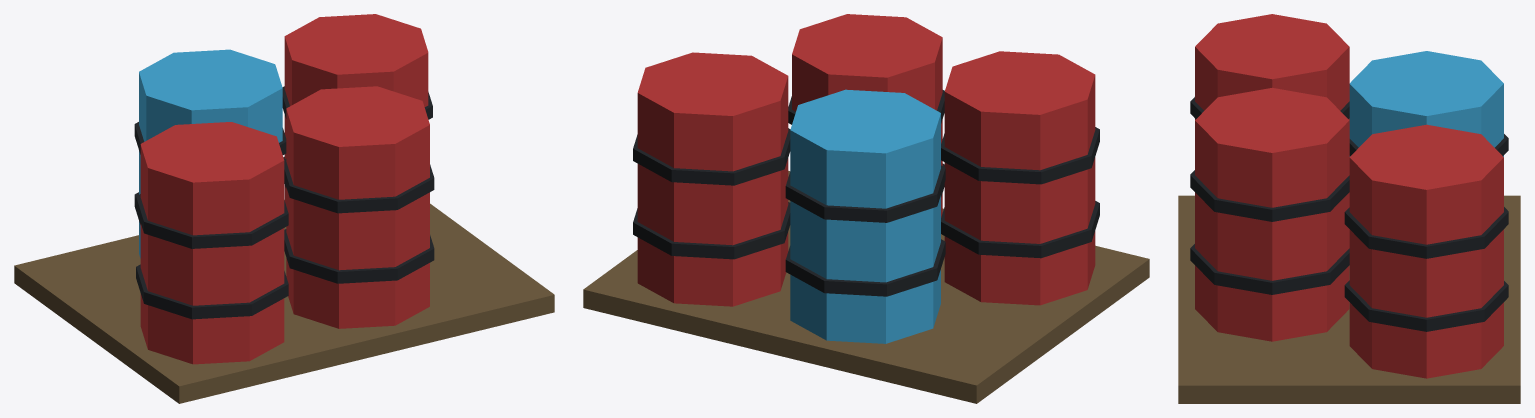
The model's file is prop_carrier_drums.fbx.
3 renders of one model, left to right at view 1: azimuth 30°, elevation 25°; view 2: azimuth 150°, elevation 25°; view 3: azimuth 270°, elevation 25°, orthographic. The views are drawn at different scales.
Visible parts, largest first — view 1: prop_carrier_drums; view 2: prop_carrier_drums; view 3: prop_carrier_drums.
Boxes of the visible parts, x1,y1,x2,y2 form: prop_carrier_drums: (14, 14, 554, 403); prop_carrier_drums: (583, 14, 1149, 403); prop_carrier_drums: (1178, 14, 1520, 403).
Bounding box in the file's own units: 670 × 340 × 510.
